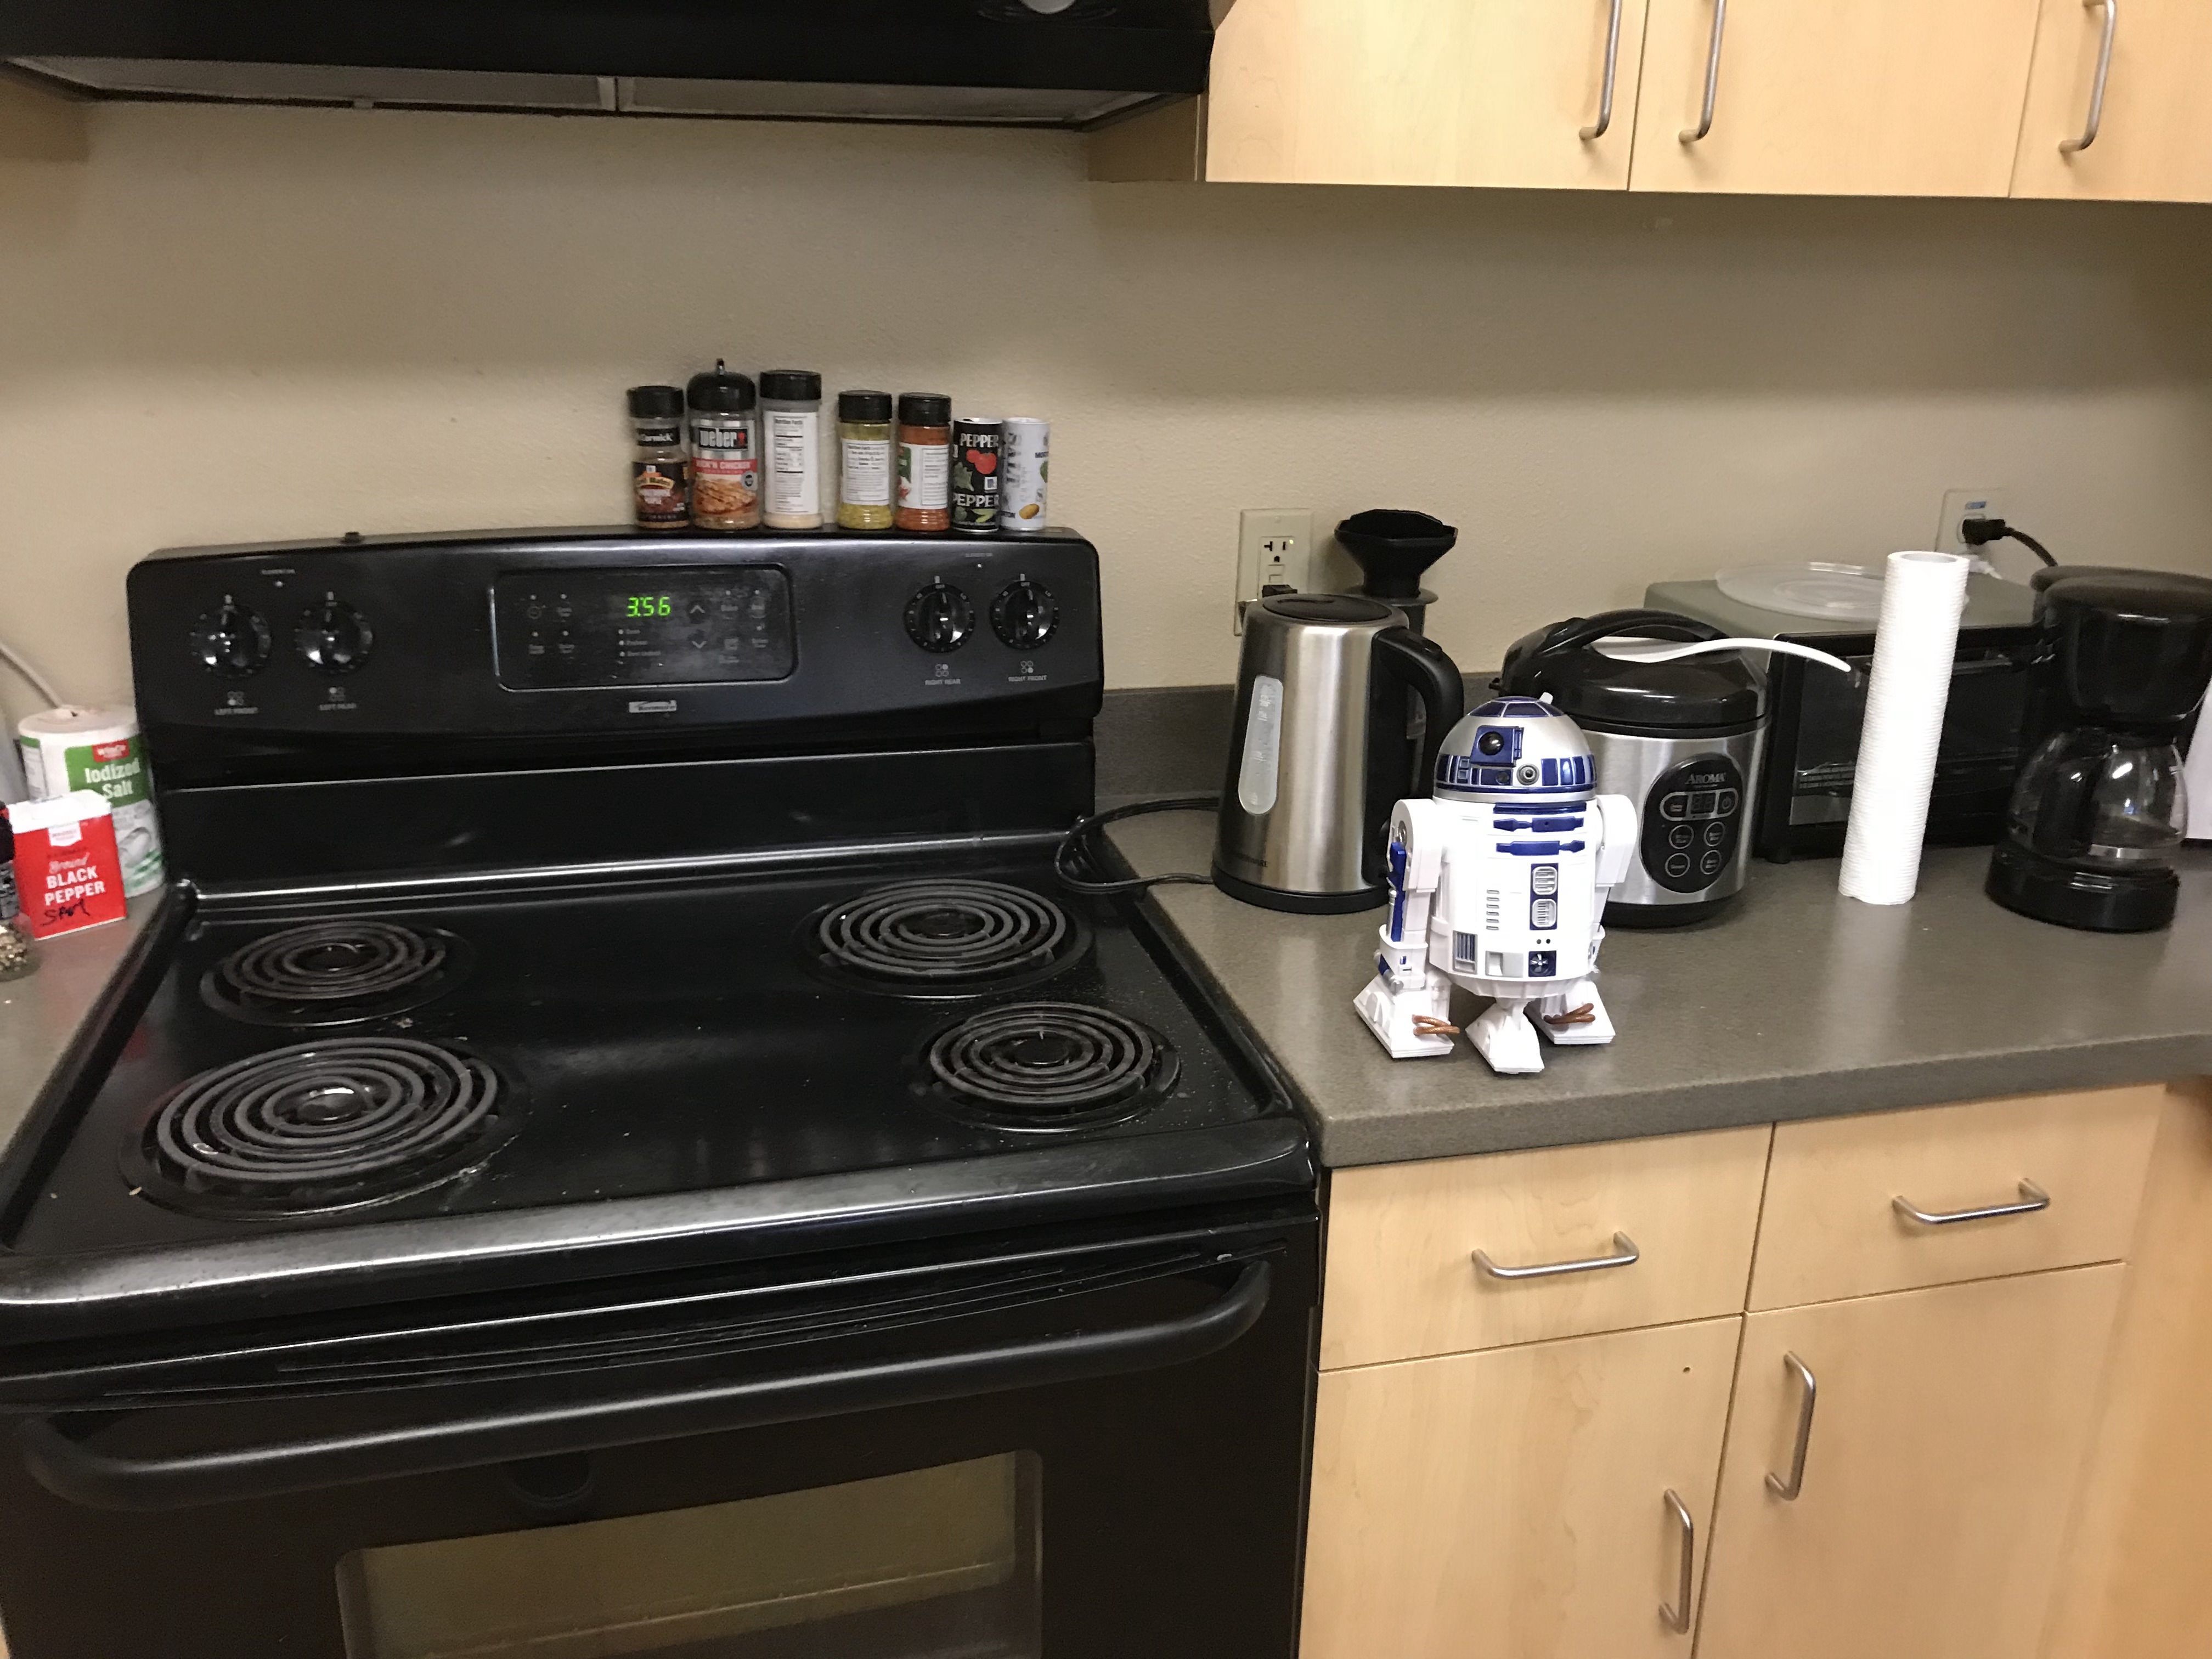r2d2: (1355, 695, 1637, 1073)
